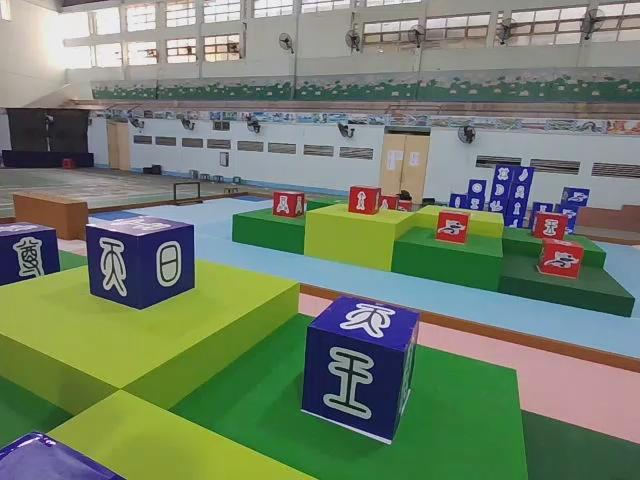R2 Fake Blue: (302, 295, 420, 447), (86, 218, 196, 313), (0, 224, 58, 291)
